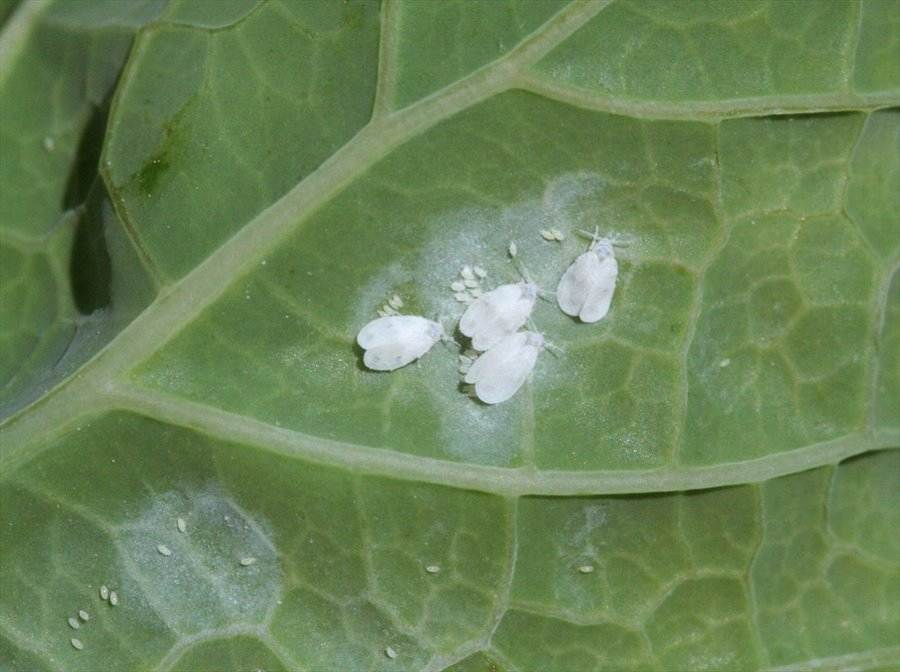Tobacco Whitefly: (463, 325, 548, 421), (556, 224, 636, 326), (340, 286, 435, 366), (454, 269, 537, 342)
